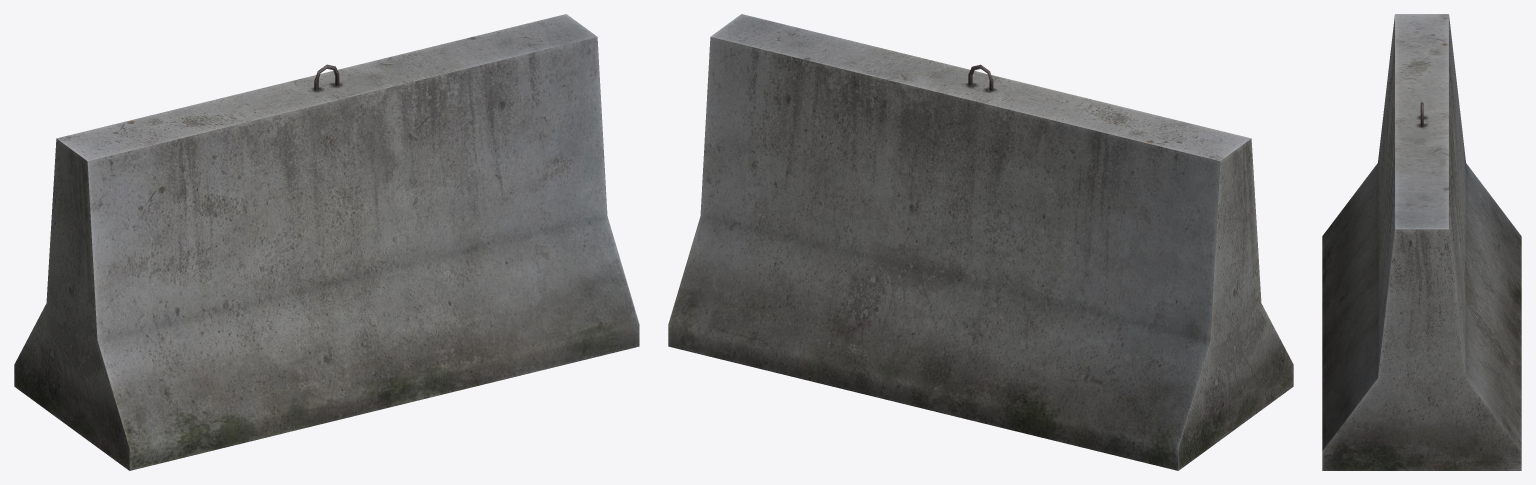
The model's file is Jersey_Barrier.glb.
The picture shows the model from 3 angles, left to right: view 1: azimuth 30°, elevation 25°; view 2: azimuth 150°, elevation 25°; view 3: azimuth 270°, elevation 25°; orthographic projection. The views are drawn at different scales.
Parts seen in each view (by area): view 1: Jersey_Barrier__LOD2; view 2: Jersey_Barrier__LOD2; view 3: Jersey_Barrier__LOD2.
Part boxes in pixels (x1,y1,x2,y2): Jersey_Barrier__LOD2: (14, 14, 639, 470); Jersey_Barrier__LOD2: (668, 14, 1293, 470); Jersey_Barrier__LOD2: (1322, 14, 1521, 470).
Bounding box in the file's own units: 1.3 × 0.7358 × 0.5086.
1 material, 1 textured.
